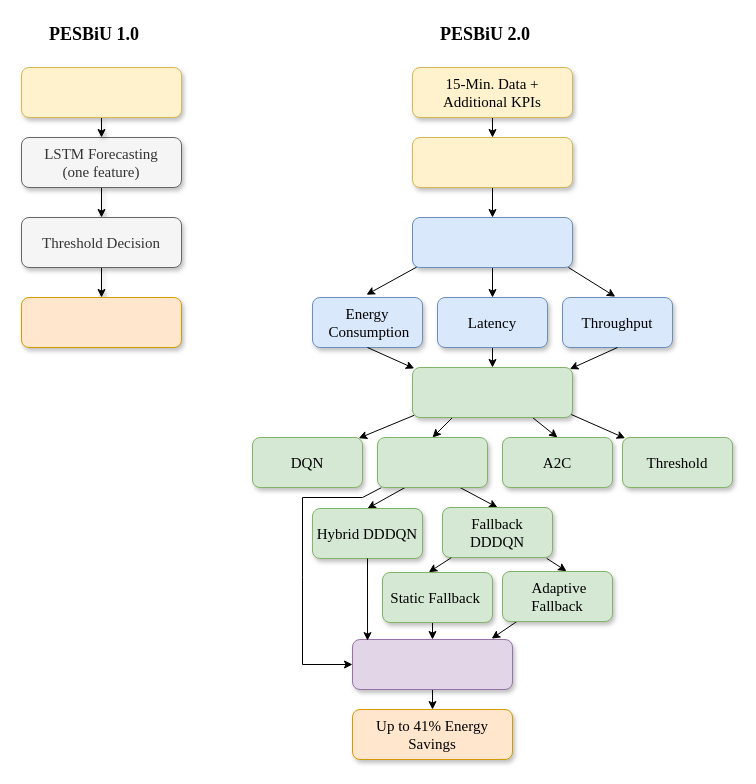
This 756x784 diagram has some shape labels left out. Here are the shapes that lost their labels. From the top down, the centre of each, then its label:
At (x=102, y=93): "Hourly Data".
At (x=493, y=163): "Monitoring of Actual KPI".
At (x=493, y=243): "Hybrid CNN-LSTM (multiple features)".
At (x=102, y=323): "15% Energy Savings".
At (x=493, y=393): "Multi-Agent RL Decision".
At (x=433, y=463): "DDDQN".
At (x=433, y=665): "Scalable BBU Control Module".
